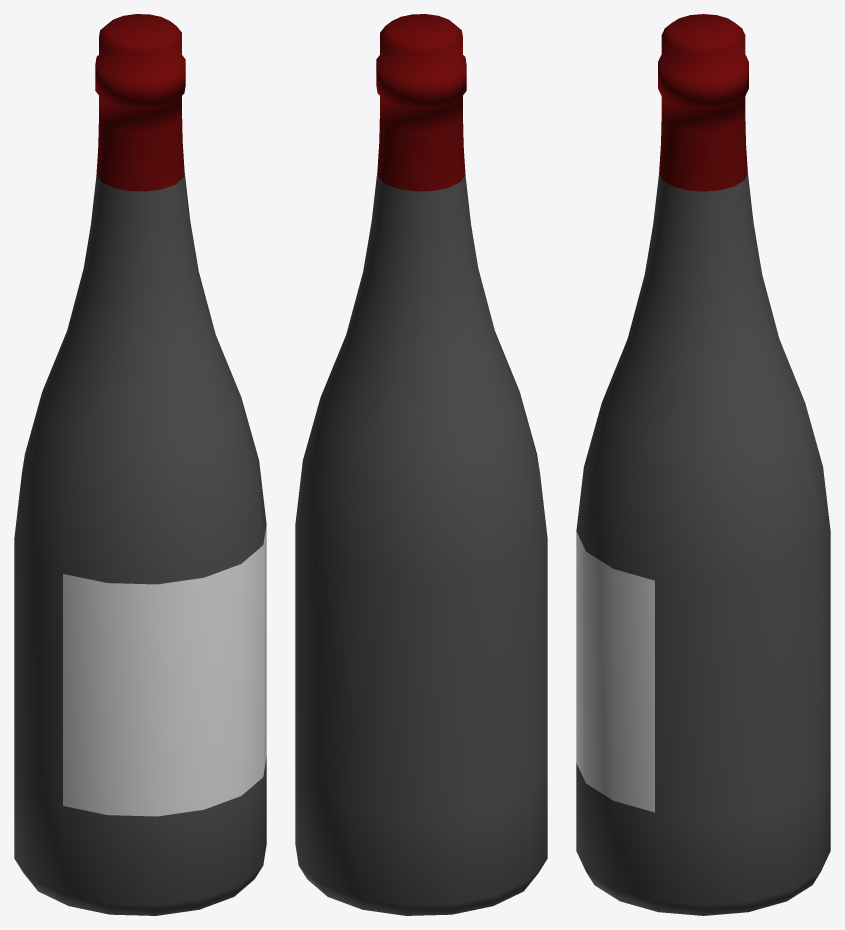
Rendered from bottle.glb.
3 views of the same model, side by side, from view 1: azimuth 30°, elevation 25°; view 2: azimuth 150°, elevation 25°; view 3: azimuth 270°, elevation 25° (orthographic).
Visible parts, largest first — view 1: Plane; view 2: Plane; view 3: Plane.
Boxes of the visible parts, x1,y1,x2,y2 form: Plane: (14,14,266,915); Plane: (295,14,547,915); Plane: (576,14,830,915).
Bounding box in the file's own units: 4.13 × 15.17 × 4.13.
